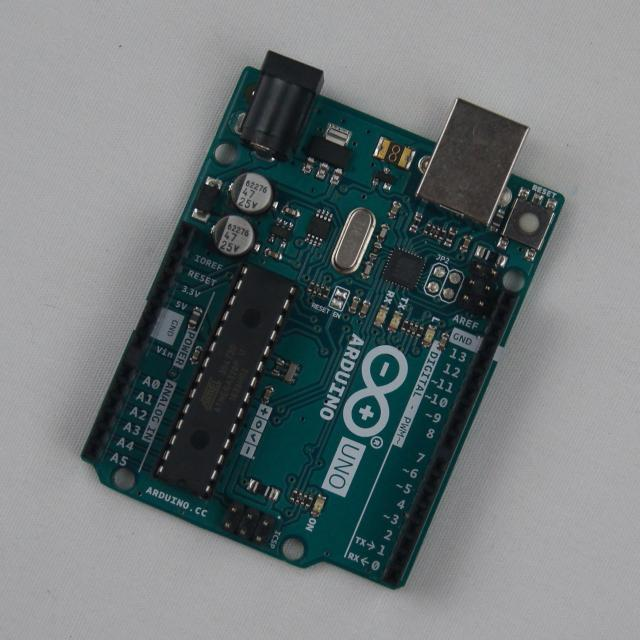Arduino Uno -Green-: (82, 52, 564, 589)
